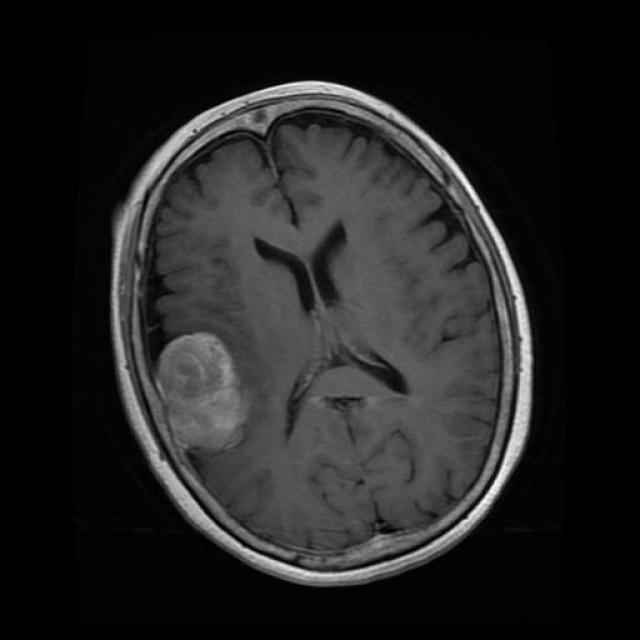meningioma: (156, 334, 244, 454)
